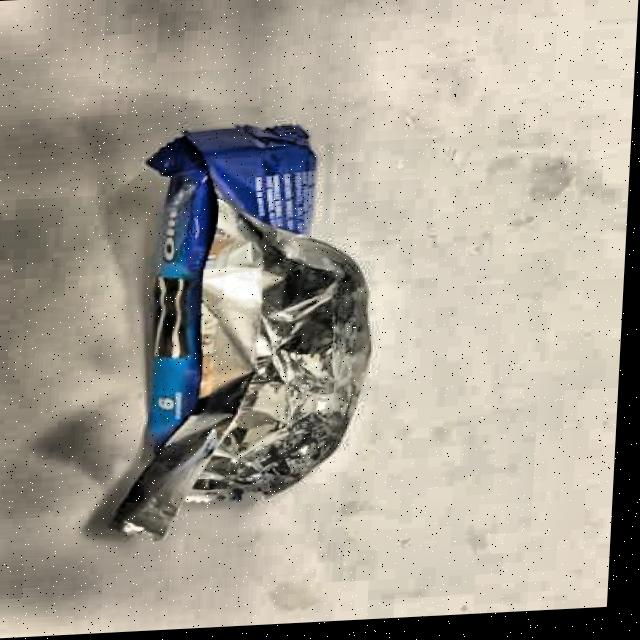plastic: (110, 116, 385, 543)
